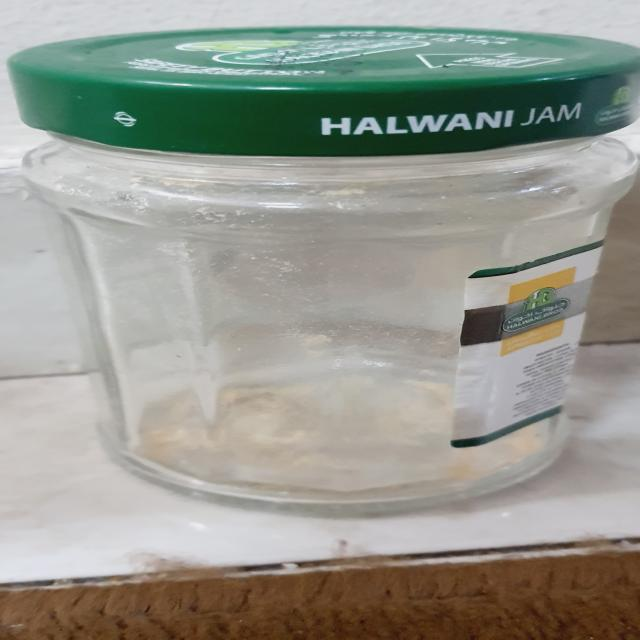glass: (6, 23, 640, 521)
